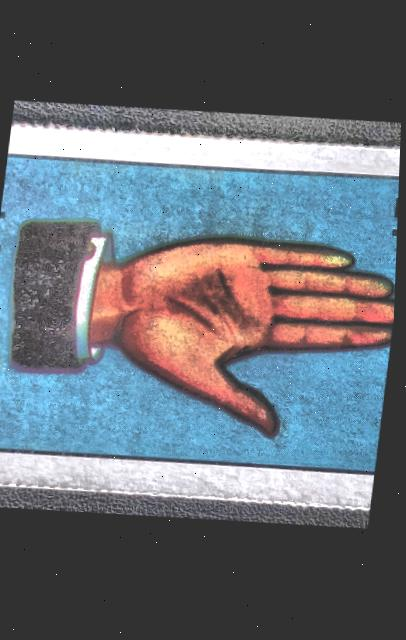La Mano: (0, 127, 402, 511)
